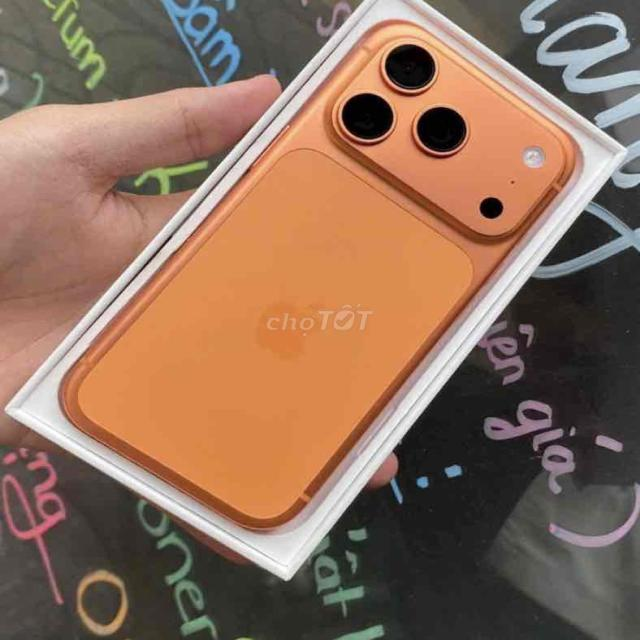gen_17: (7, 0, 623, 578)
